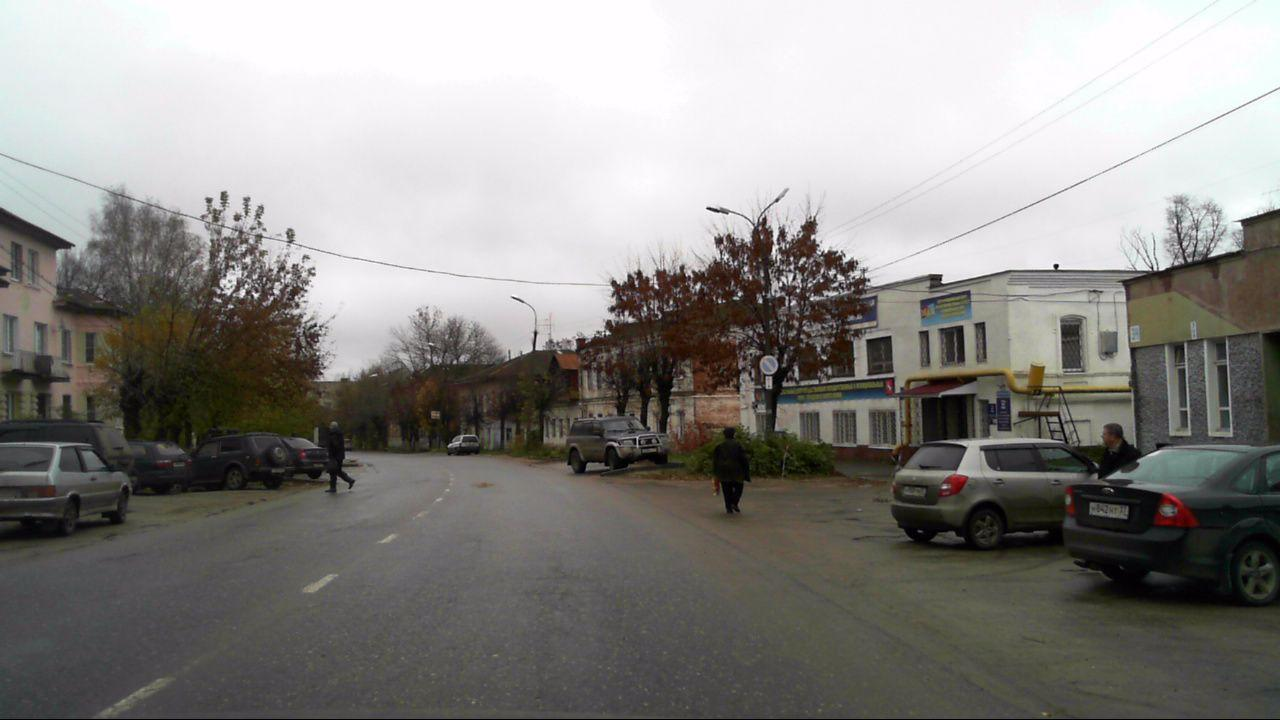road_sign: (759, 356, 778, 375)
